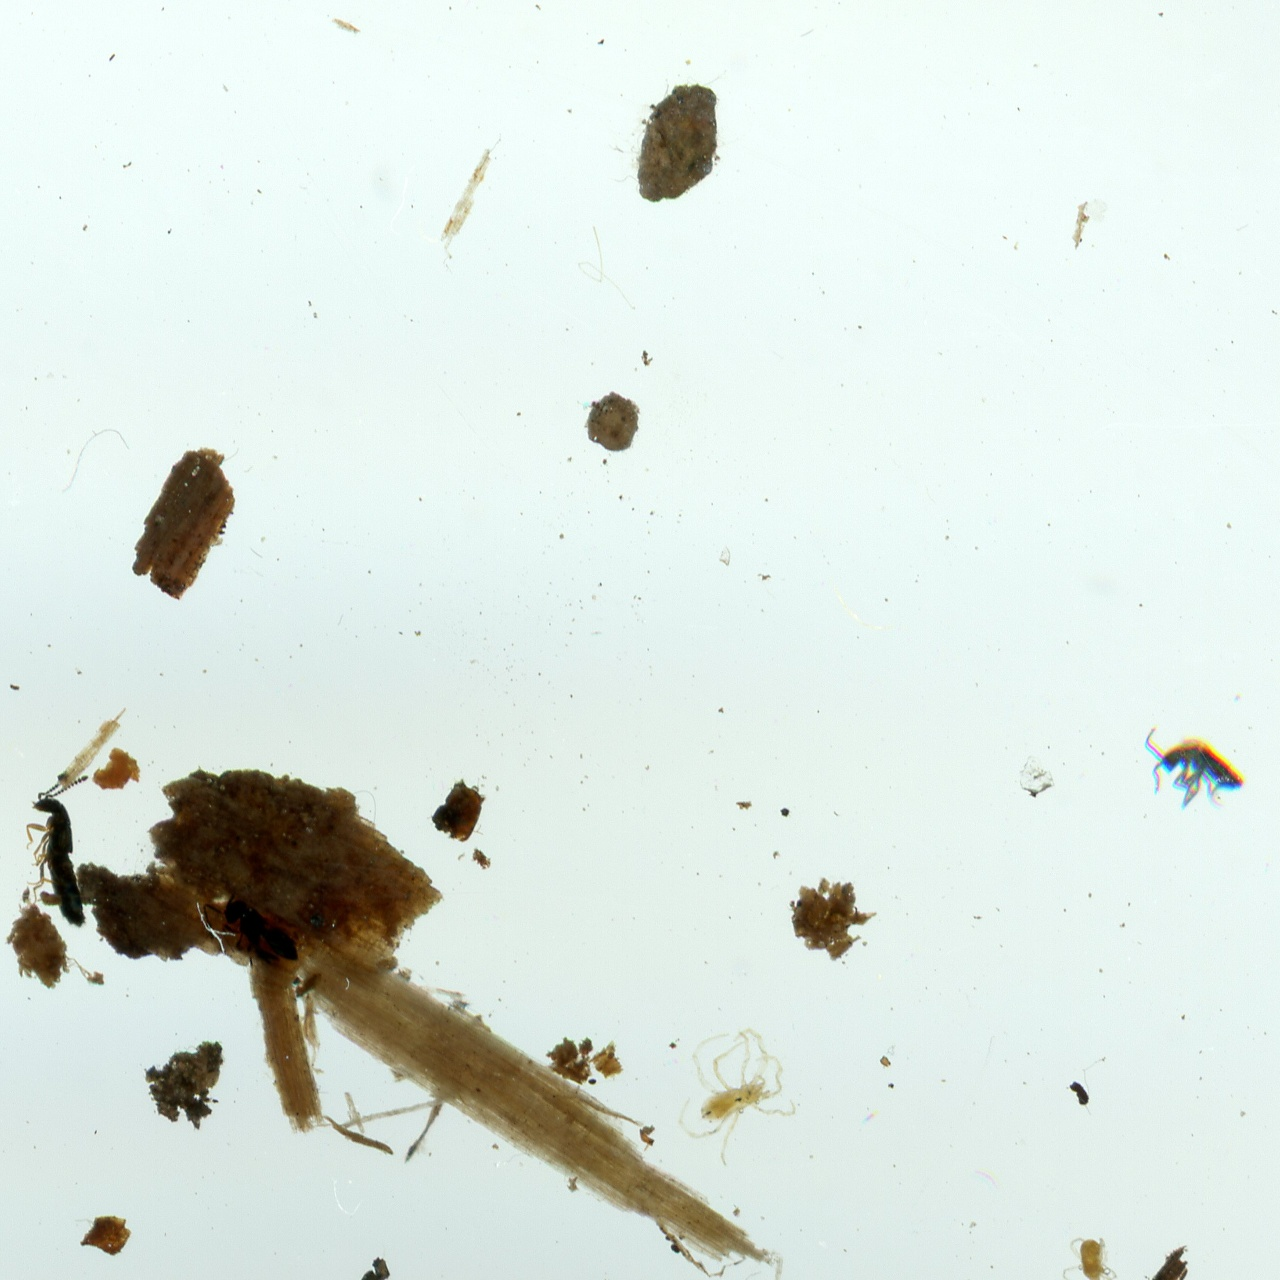arthropod: (645, 1008, 819, 1182), (189, 873, 313, 995), (22, 768, 94, 930), (1143, 722, 1248, 812), (1050, 1225, 1137, 1280)
